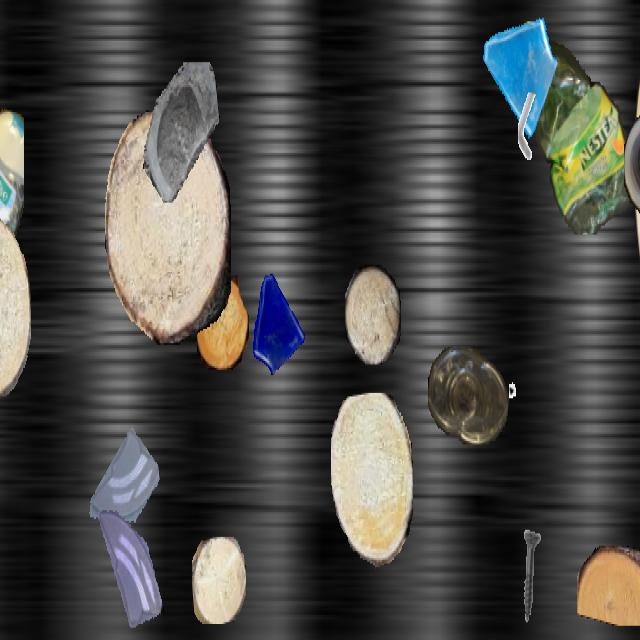glass: (141, 62, 219, 201), (479, 2, 557, 140), (92, 507, 166, 638), (87, 423, 159, 551), (247, 269, 307, 375)
metal: (502, 528, 558, 628), (508, 92, 548, 164), (509, 366, 547, 434)
plastic: (504, 21, 634, 235), (428, 347, 508, 442), (0, 102, 23, 340), (624, 64, 640, 217), (634, 2, 640, 350)
wood: (105, 109, 231, 343), (331, 393, 413, 567), (0, 212, 30, 400), (345, 265, 401, 364), (577, 546, 640, 624), (196, 276, 248, 368), (192, 537, 246, 622)
